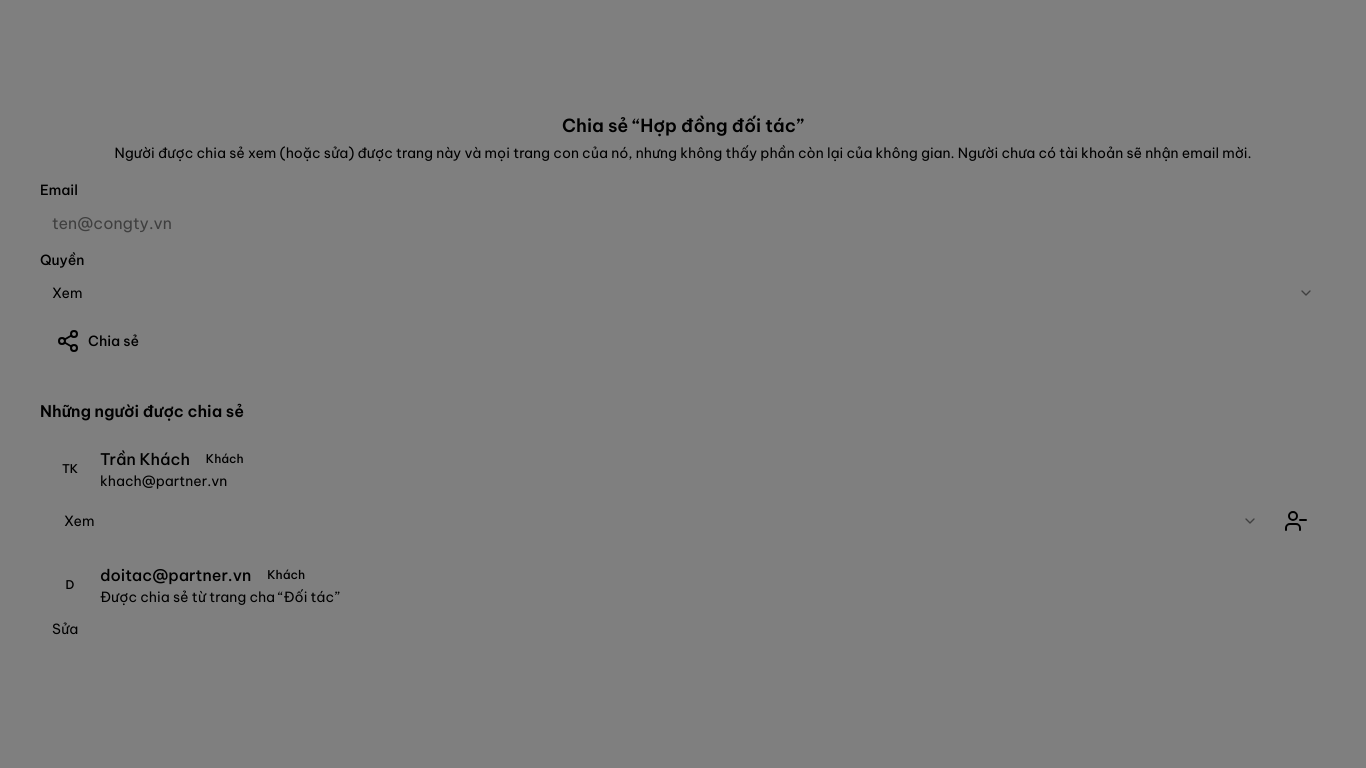
SharePageDialogBody › shares with an existing account and reloads the list
This screenshot has width=1366, height=768.
Type "Khach@Partner.vn" into the field labelled "Email".
click(683, 223); type("Khach@Partner.vn")  # box [40,205,1326,241]
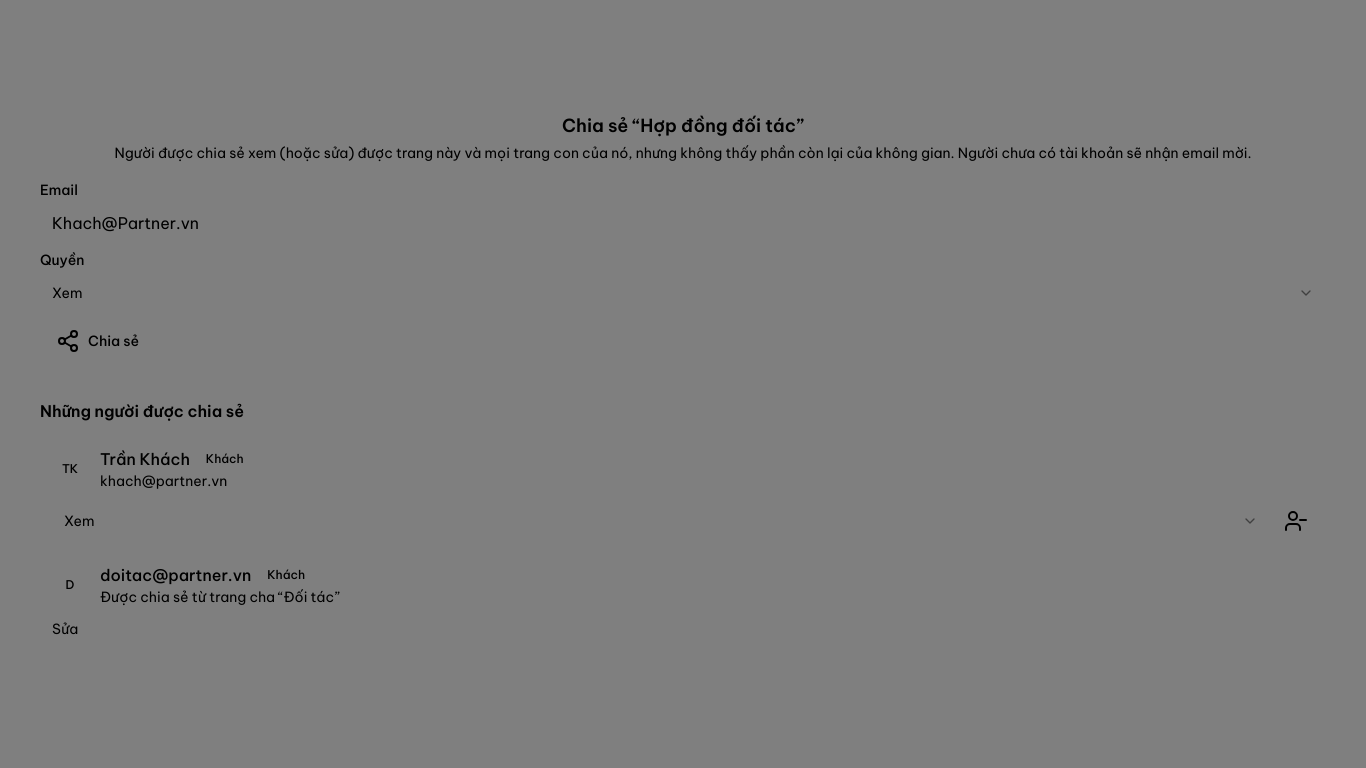
Click the button "Chia sẻ".
click(98, 341)  # box [40,323,155,359]
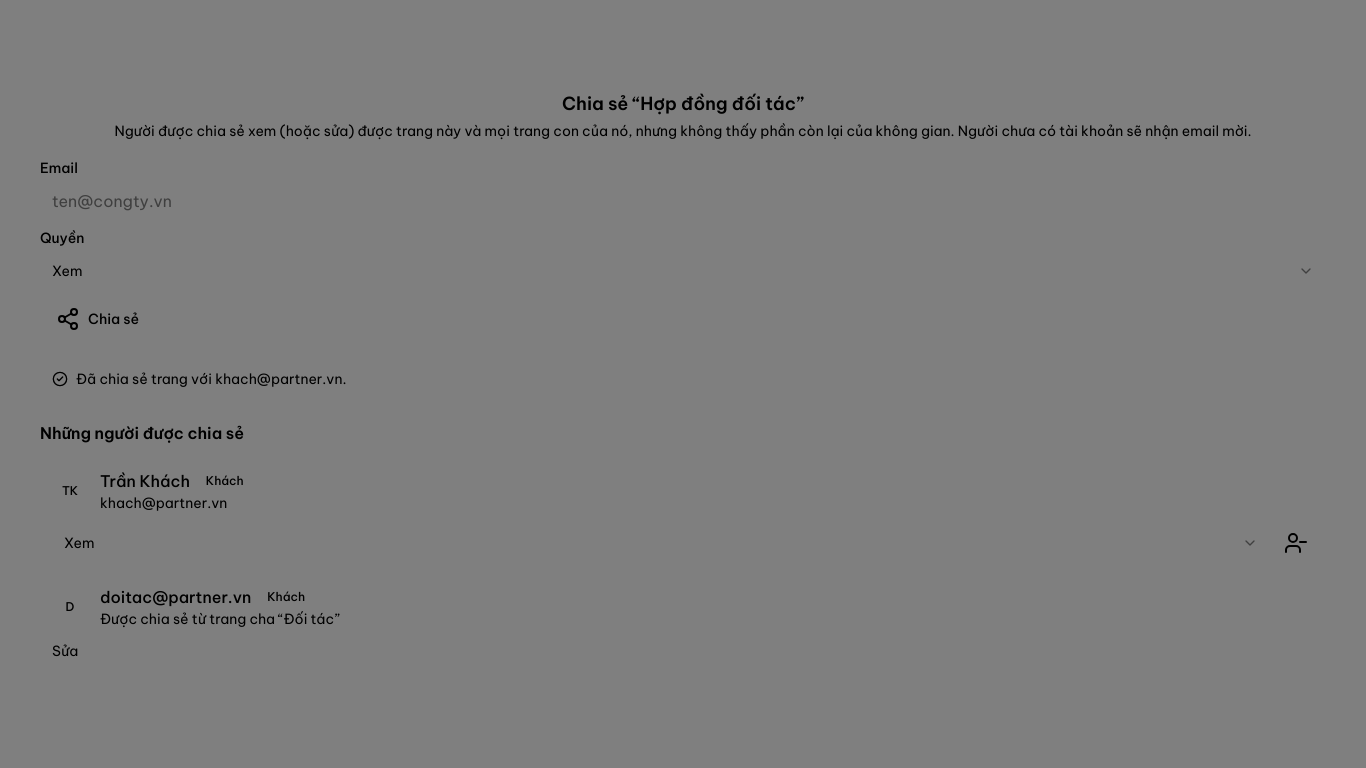
expect the text "Đã chia sẻ trang với khach@partner.vn." is shown: met, box [76,369,346,389]
